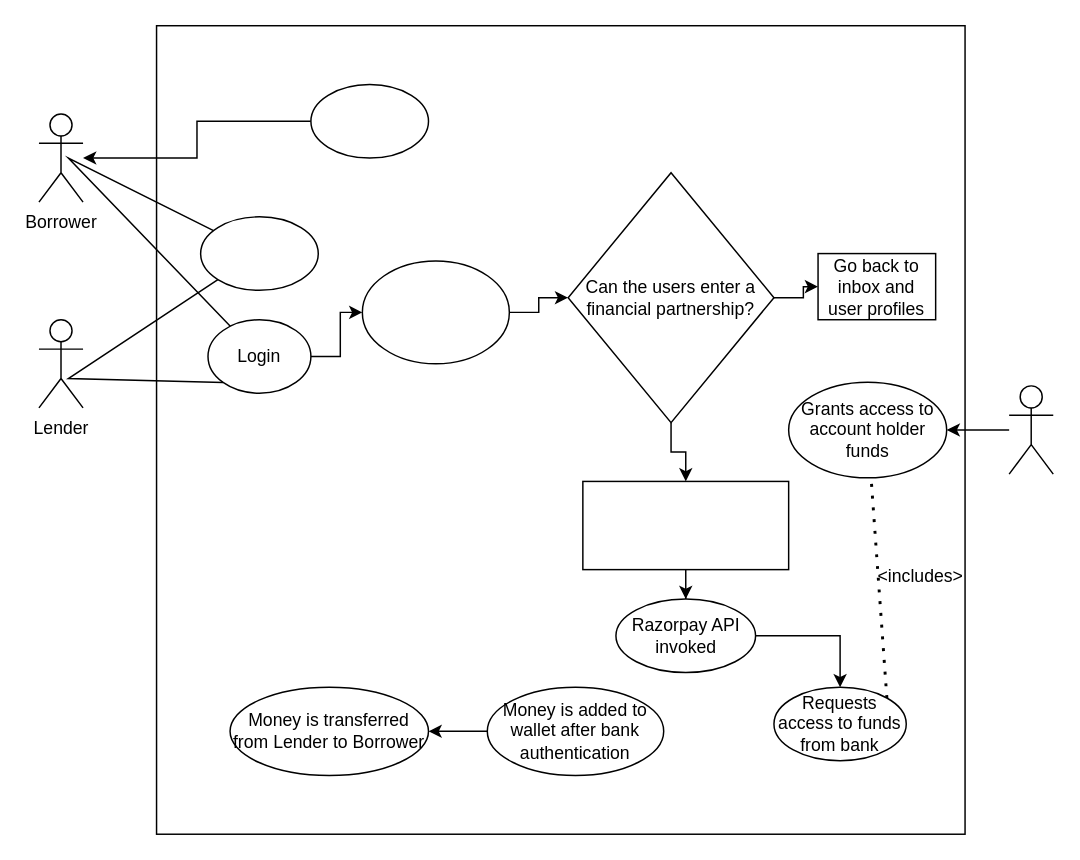
Image size: 1080x860. Some labels were removed from this diagram. Here are the shapes that lost their labels. From the top down, the box of each, then its label:
(309, 83, 429, 158): Credit Risk SCore Assigned
(199, 215, 318, 290): Sign Up
(361, 259, 509, 364): Message Inbox and User Profile View
(1008, 384, 1053, 474): BANK
(581, 480, 789, 570): Money must be added to wallet to transfer from Lender to Borrower
